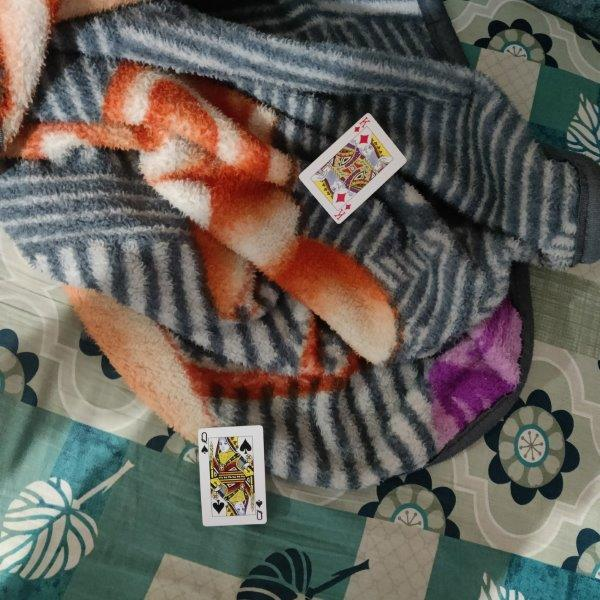King of Diamonds: (298, 113, 407, 224)
Queen of Spades: (197, 424, 269, 528)
